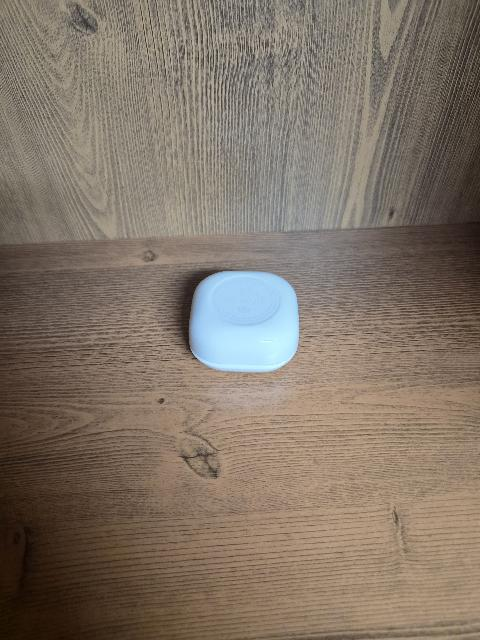earphone_case: (188, 270, 300, 372)
